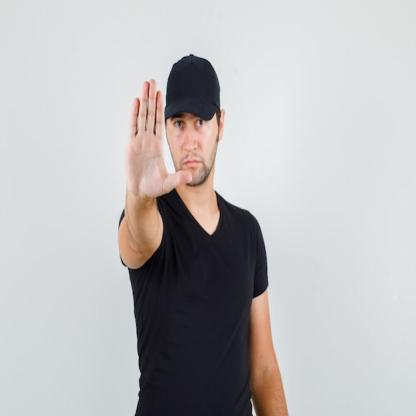stop: (124, 76, 193, 206)
